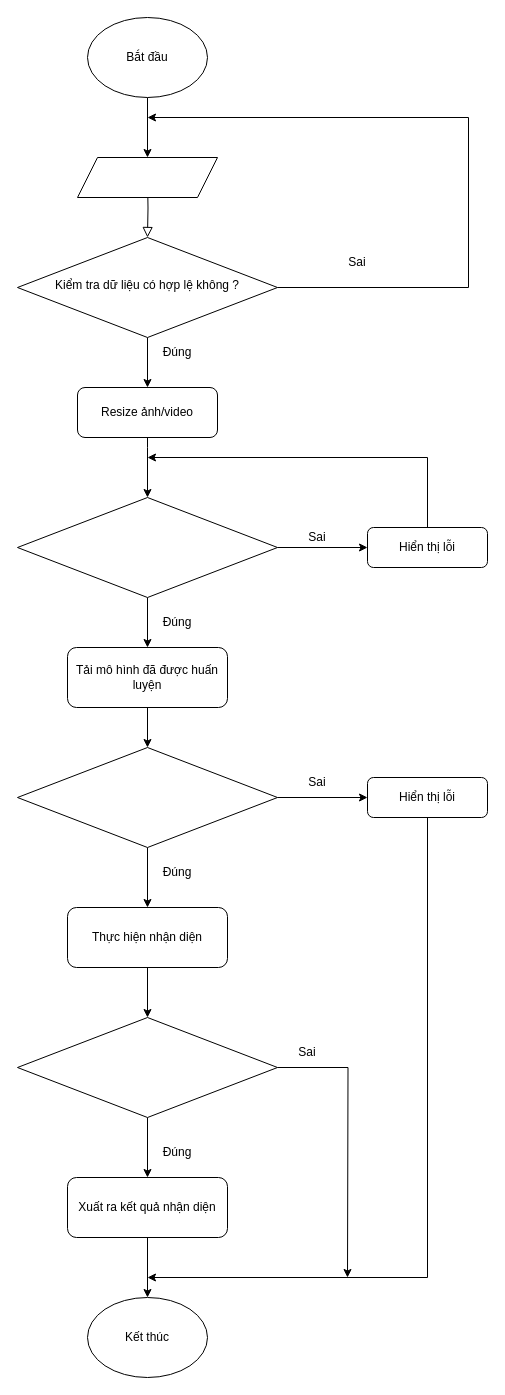
The diagram is 505 pixels wide and 1395 high, and some of its shapes have lost their labels. The box of each missing label's shape, as (x1, y1, x2, y2) in pixels:
Dữ liệu đầu vào: (76, 156, 218, 198)
Lưu file ảnh/video sau xử lý ?: (16, 1016, 278, 1118)
Tiền xử lý thành công ?: (16, 496, 278, 598)
Tải thành công ?: (16, 746, 278, 848)
